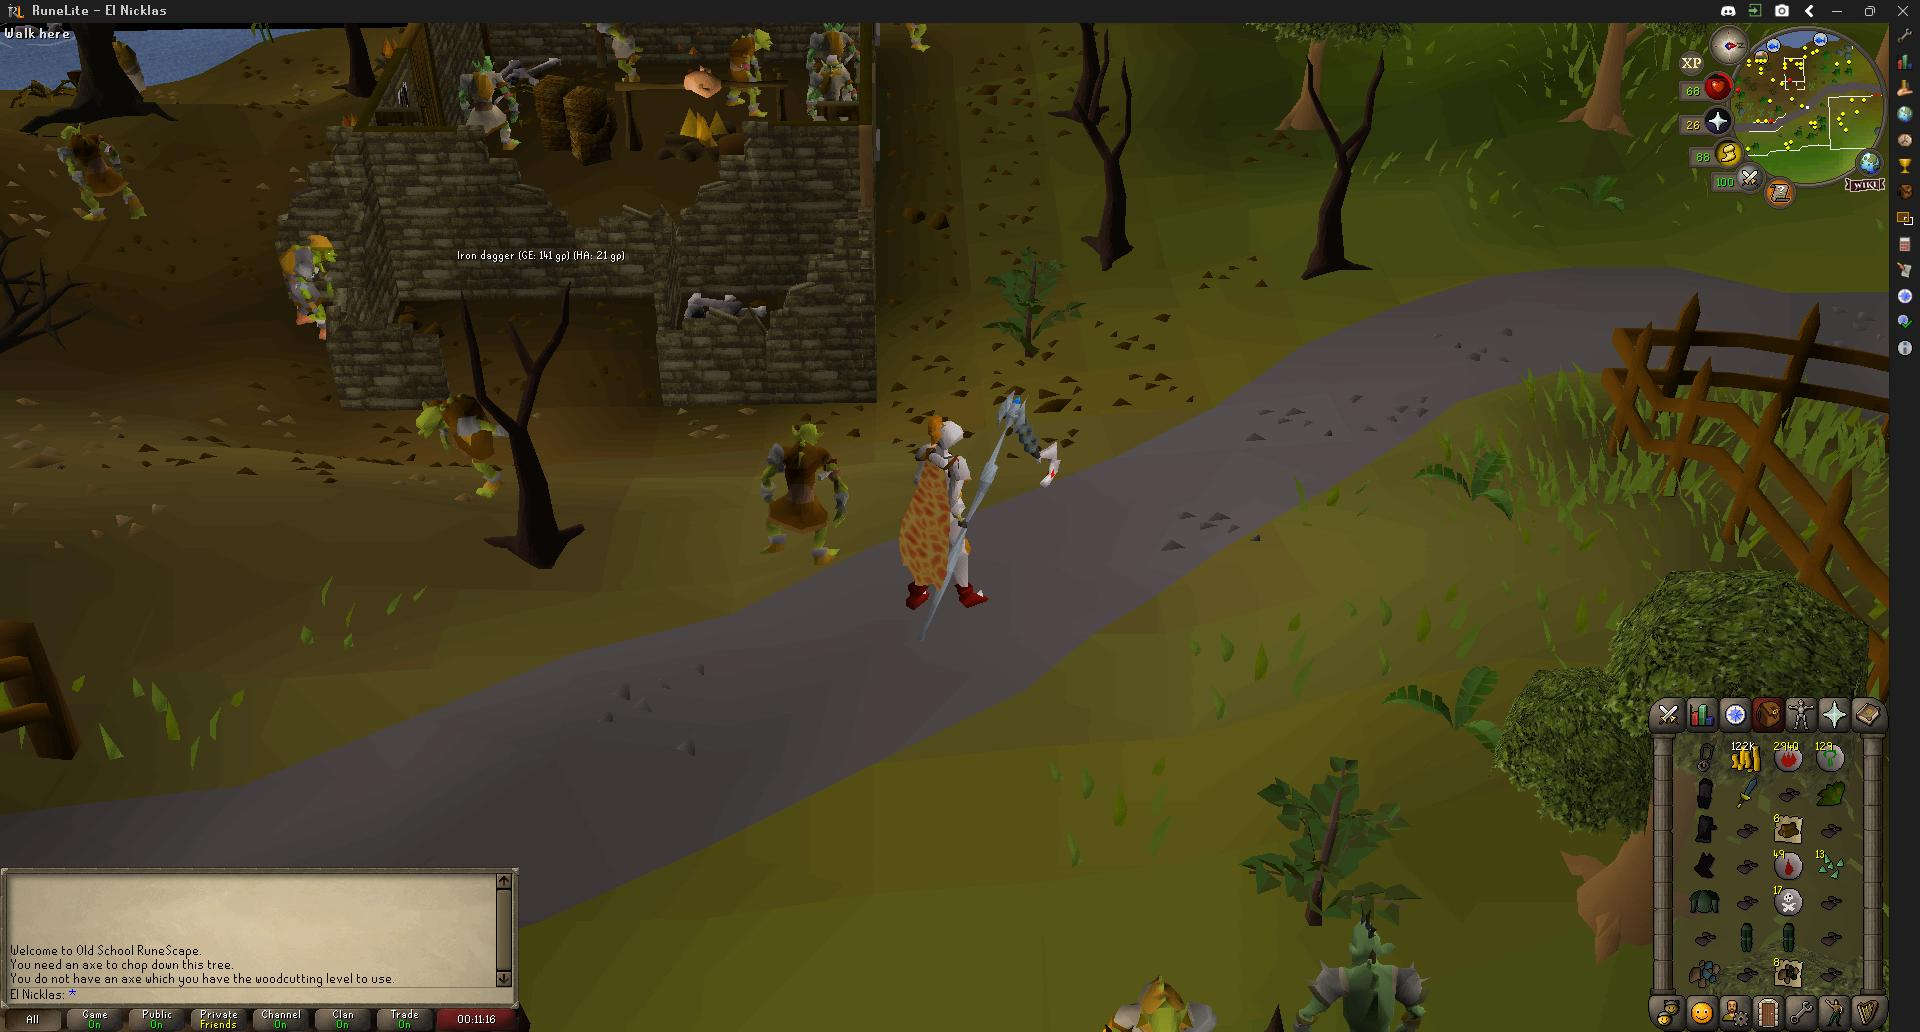Player: (899, 412, 973, 611)
goblin: (1297, 915, 1429, 1032), (753, 417, 845, 570), (413, 389, 509, 497), (55, 125, 147, 223), (455, 52, 528, 156), (279, 235, 338, 343), (807, 24, 865, 127), (725, 28, 771, 117), (591, 21, 637, 84), (906, 23, 931, 52)
